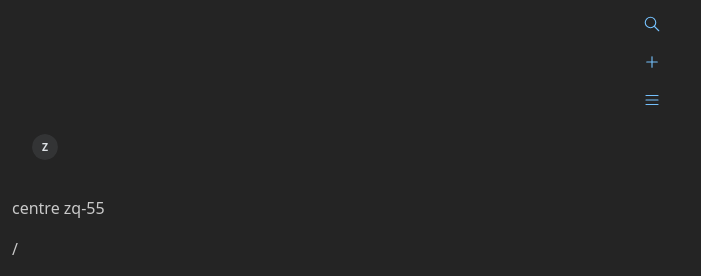
Scenario: the rail's two in-entry navigations (D4, US-090.AC-1) › Search moves the in-entry router to /search — DoD-4
What coordinates should you click on to do the following:
click the button named "search"
I would click on:
 (652, 24)
Its box is [638,10,666,38].
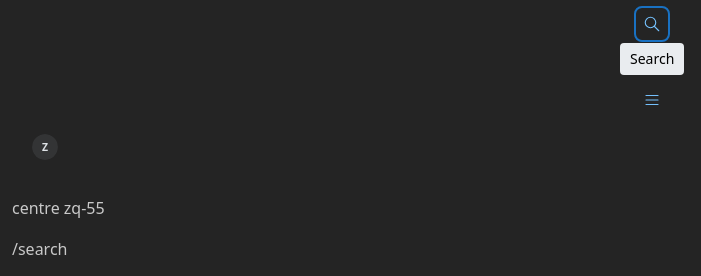
Result: the text with test id "probe-location" reads "/search" at [12,238,68,260]
